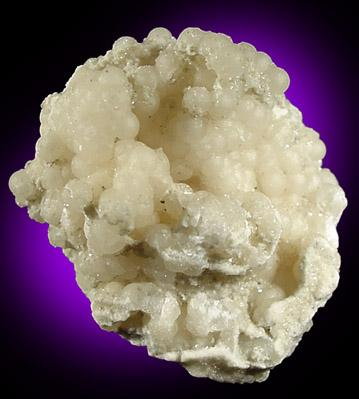prehnite: (9, 28, 349, 385)
